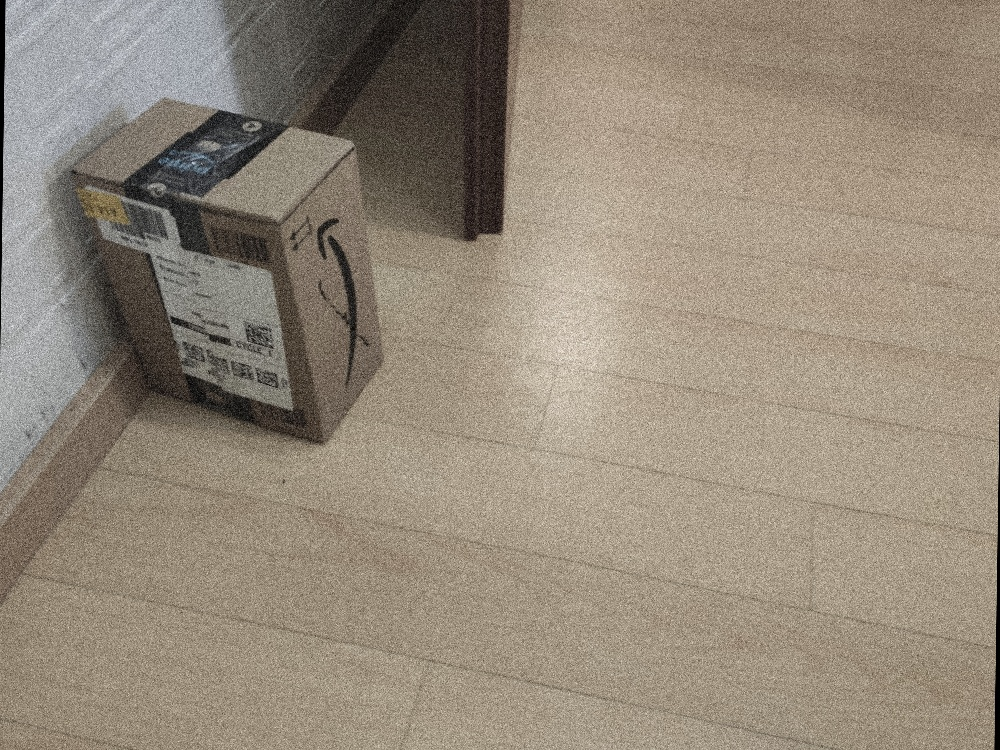good-parcel: (59, 79, 422, 452)
